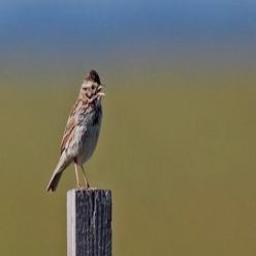Sparrow: (44, 64, 107, 201)
